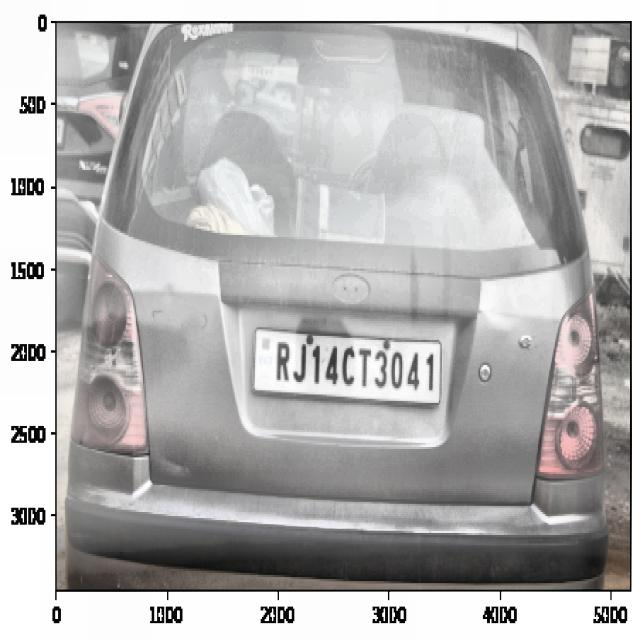license_plate: (266, 335, 442, 406)
